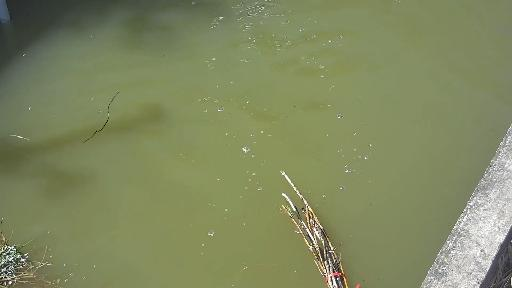twig: (270, 161, 346, 284), (65, 80, 121, 151), (0, 235, 62, 288)
